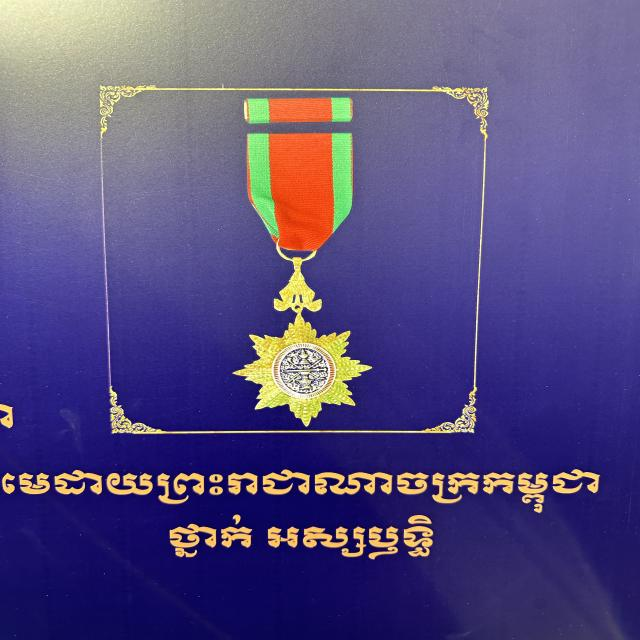1: (143, 514, 449, 567)
Yolov11_80vkh: (0, 463, 605, 512)
